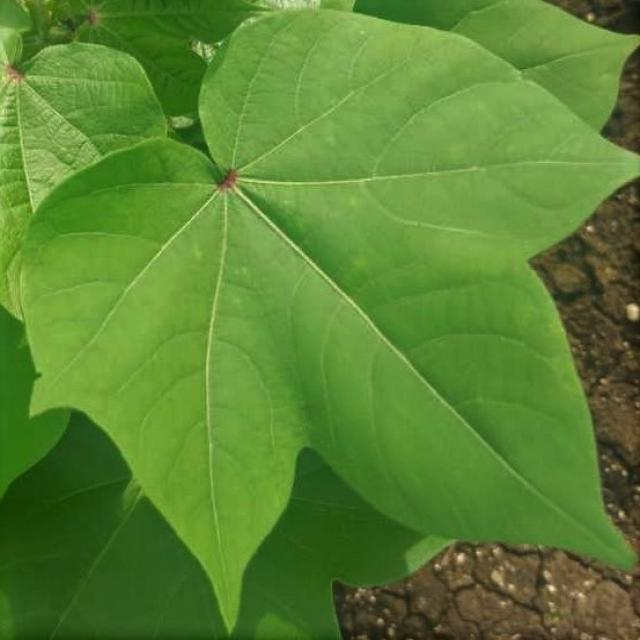Healthy Leaf: (28, 38, 528, 456)
